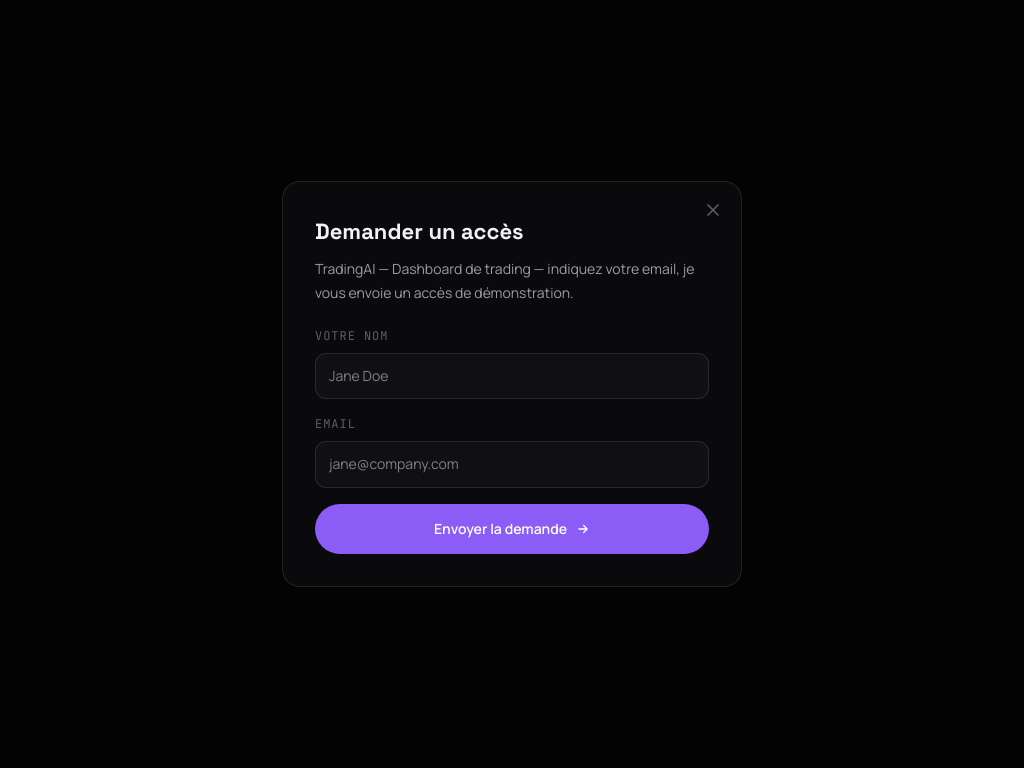
Test case: DemoModal — FR › affiche l'état "envoyé" après soumission réussie
In the field with placeholder "Jane Doe": (512, 376) x1=315 y1=353 x2=709 y2=399, type "Test User"
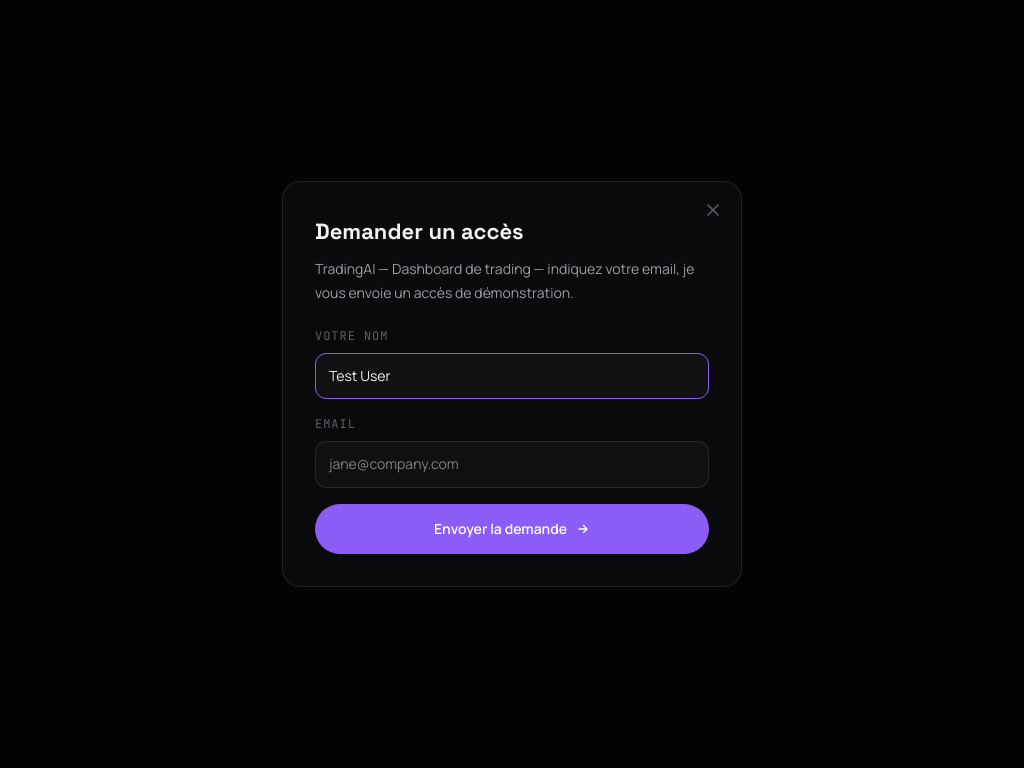
In the field with placeholder "jane@company.com": (512, 465) x1=315 y1=441 x2=709 y2=488, type "test@test.com"
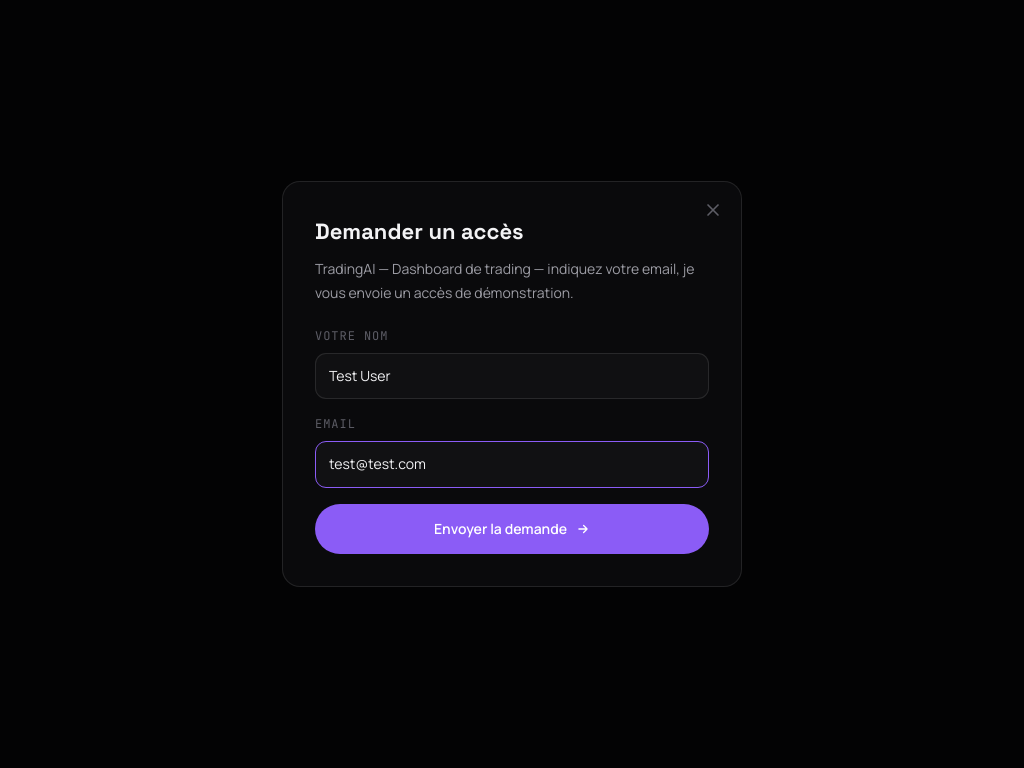
Click the button "Envoyer la demande": (512, 529) x1=315 y1=504 x2=709 y2=554
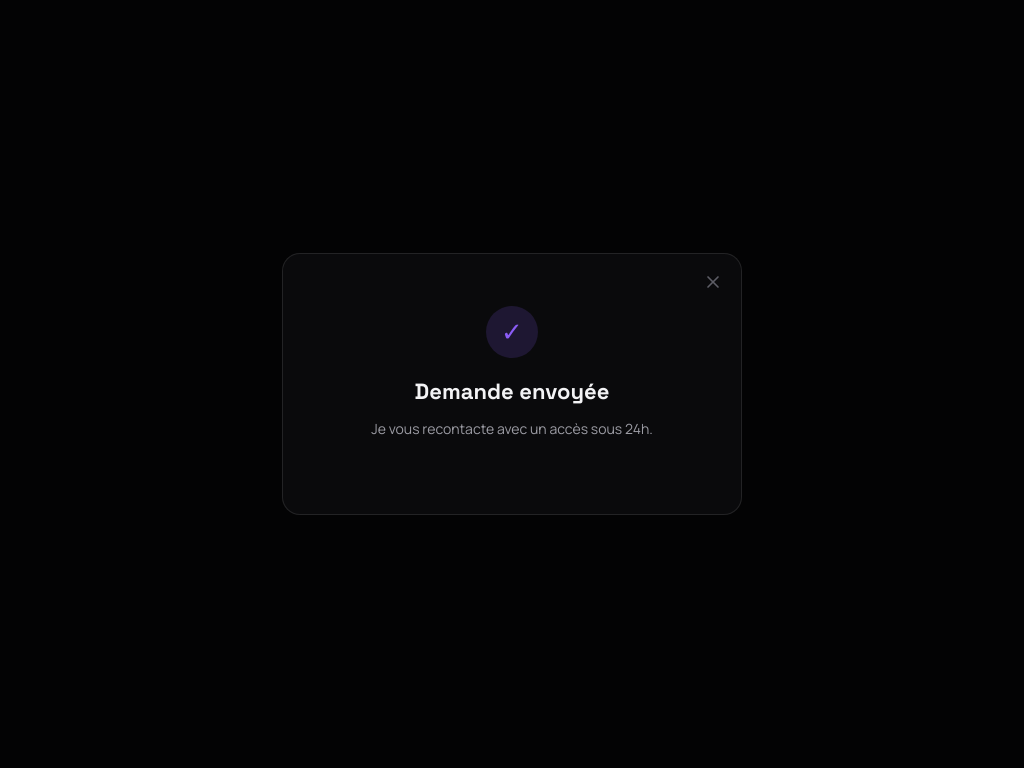
Expected: the heading "Demande envoyée" is shown, x1=415 y1=376 x2=609 y2=404
